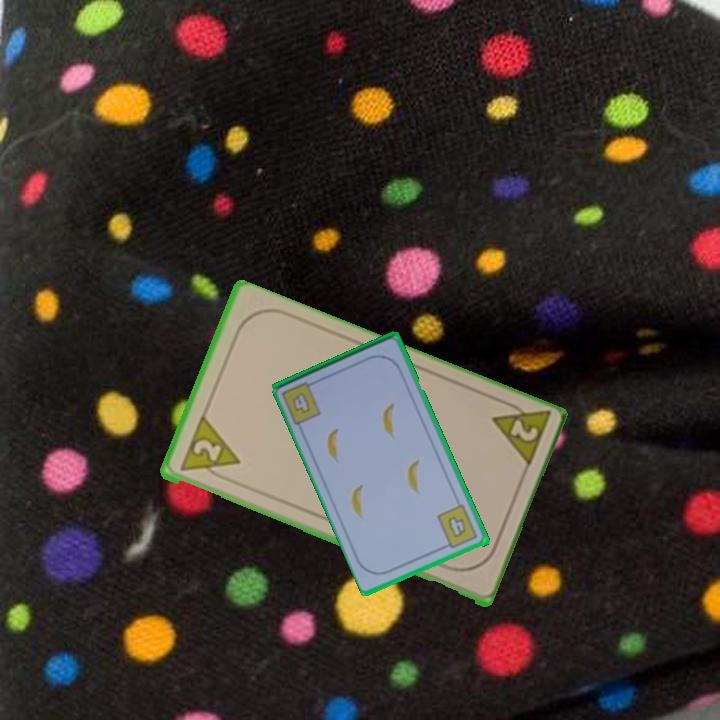2p: (487, 395, 553, 473), (189, 435, 224, 465)
4b: (434, 501, 481, 552), (289, 389, 313, 417)
